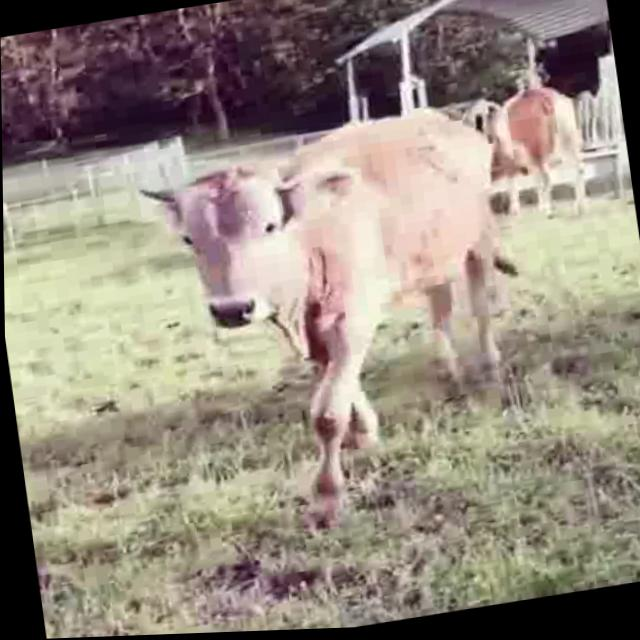cowFace: (126, 147, 374, 351)
